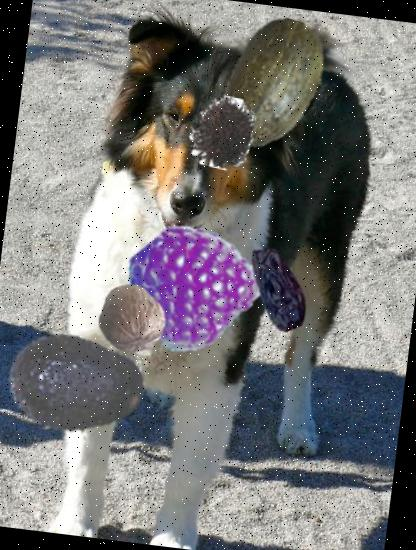Avocado: (1, 309, 152, 461)
Dates: (229, 238, 328, 336)
Melon: (196, 8, 350, 162)
Rambutan: (182, 92, 262, 172)
Raspberry: (120, 216, 258, 355)
Walnut: (92, 280, 171, 359)
